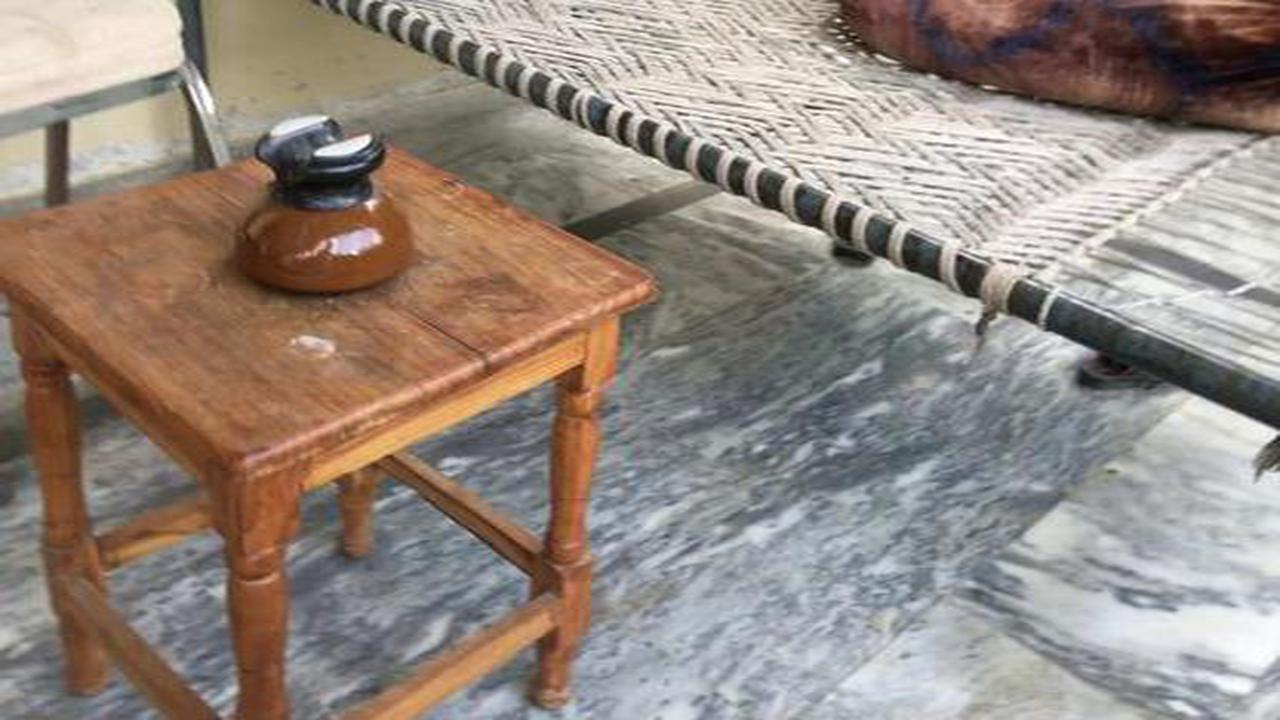insulator_pin: (207, 103, 437, 307)
